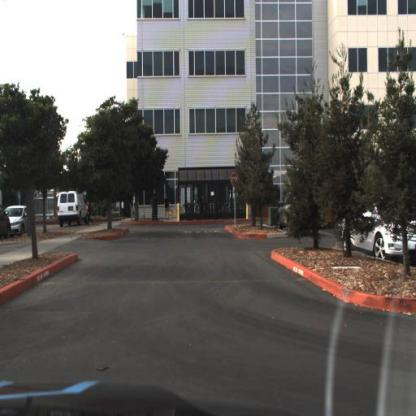car: (341, 189, 416, 262), (276, 194, 318, 237), (57, 189, 90, 229), (1, 205, 35, 237), (276, 190, 300, 235)
pedestrian: (163, 193, 173, 225), (85, 198, 95, 225), (151, 194, 156, 222), (156, 194, 160, 219)
truck: (56, 191, 90, 226)
